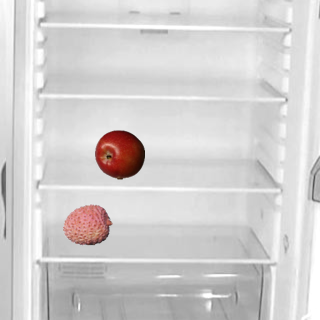Apple Braeburn: (94, 129, 144, 179)
Lychee: (62, 199, 112, 249)
